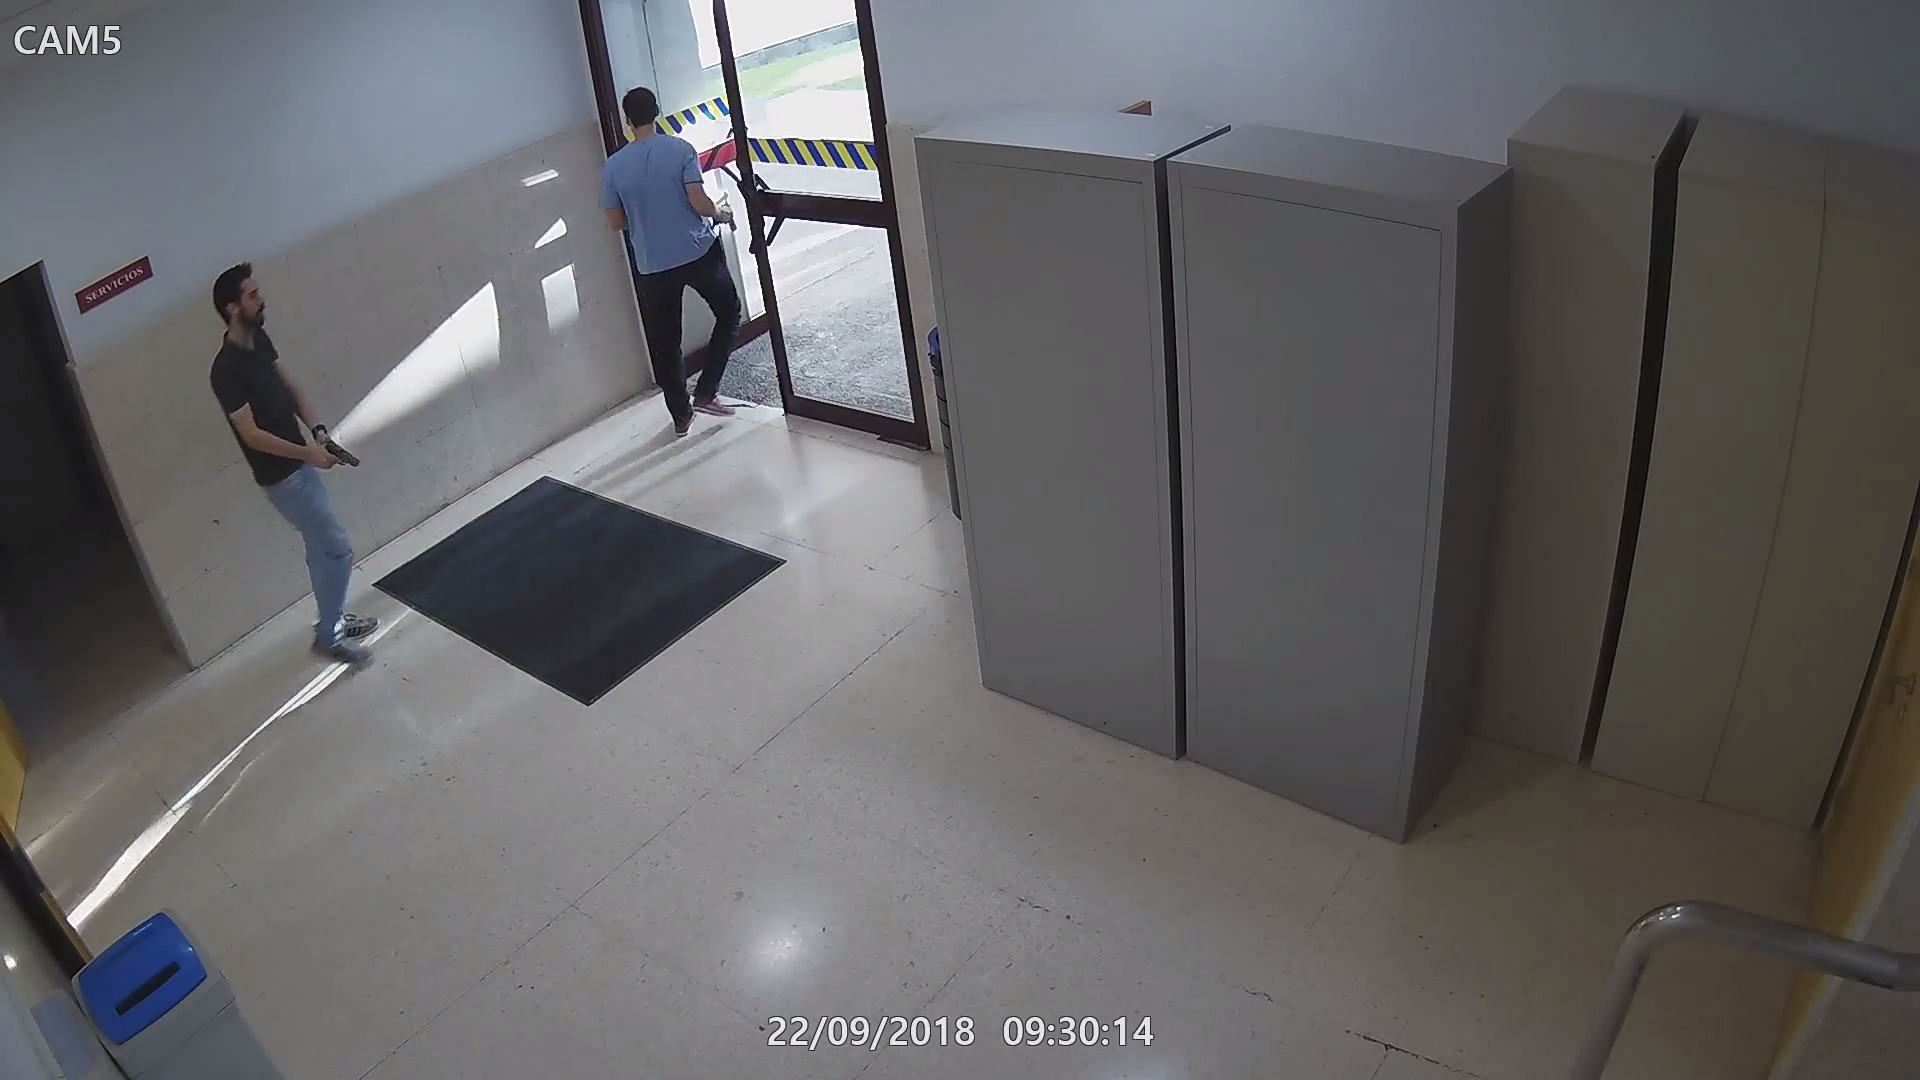Handgun: (313, 436, 359, 473)
